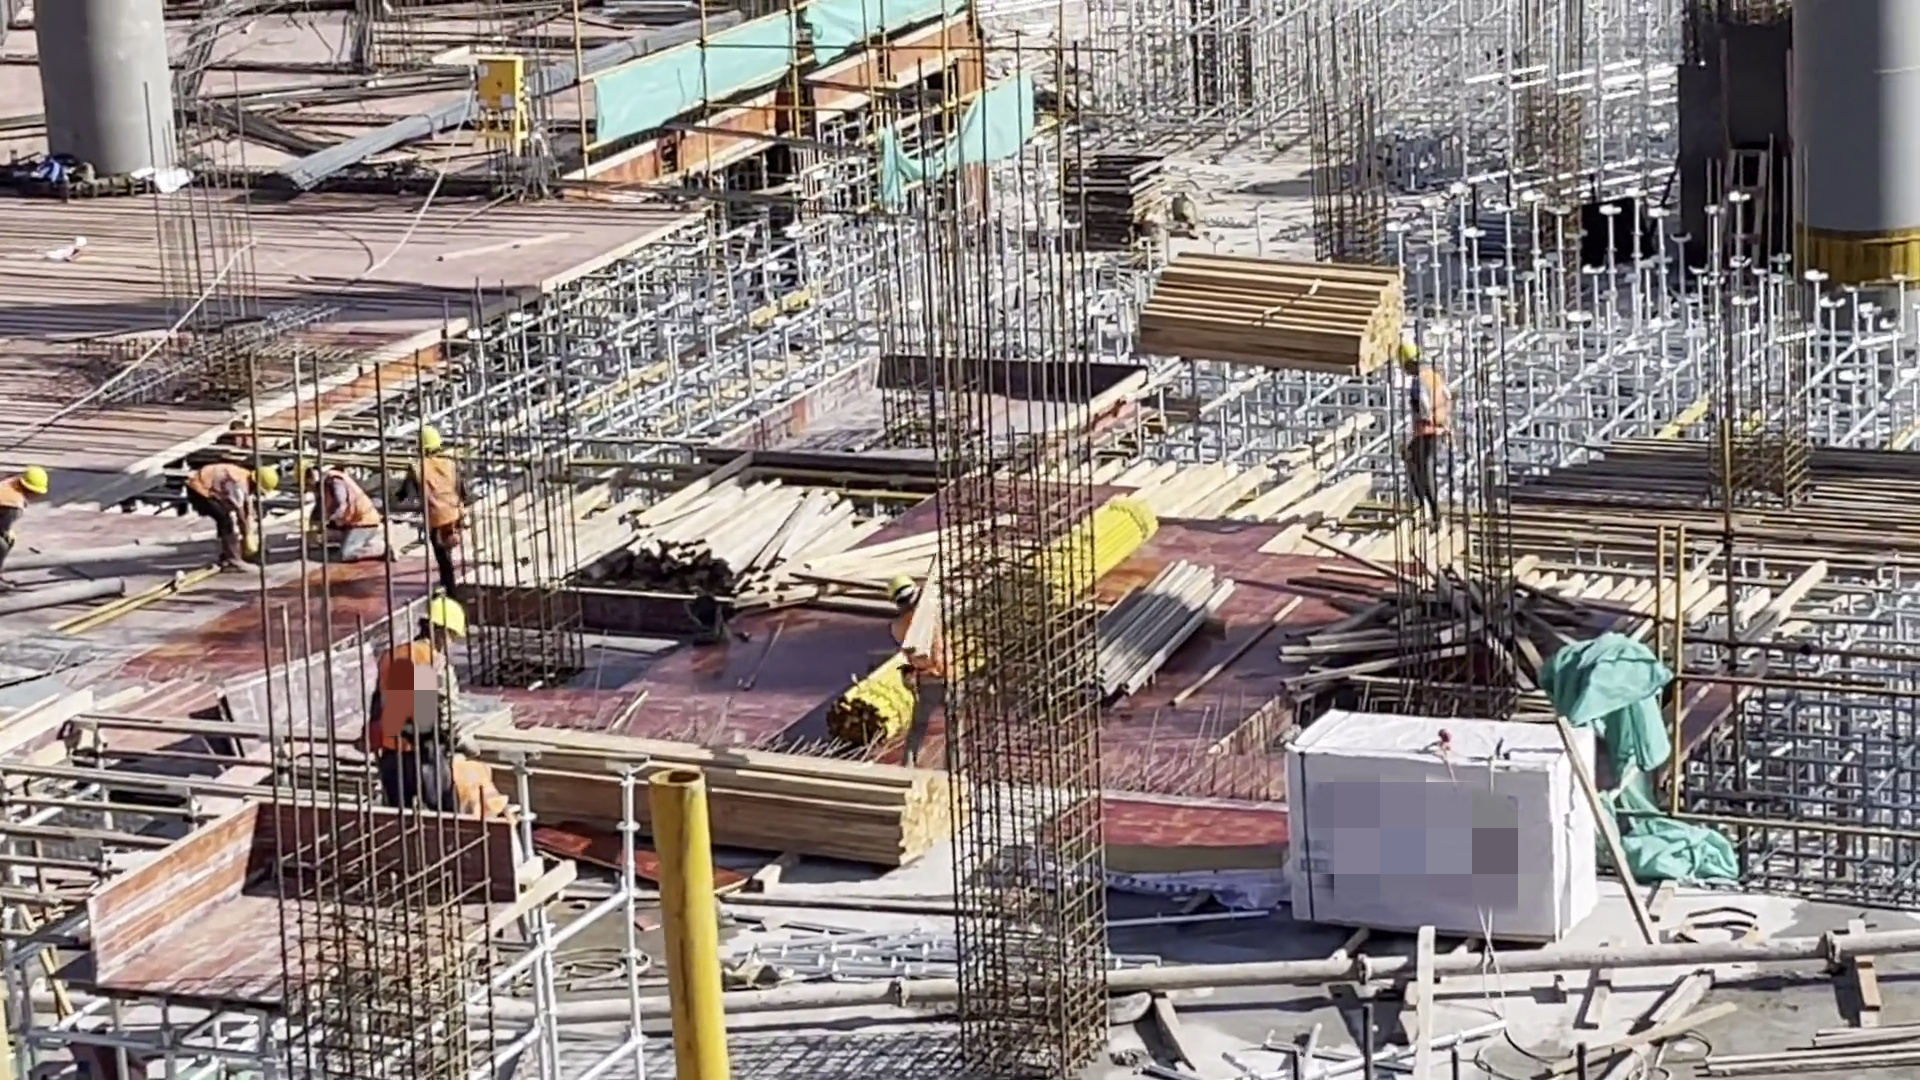ebox: (472, 48, 532, 127)
helmet: (11, 459, 60, 504), (415, 594, 467, 626), (409, 421, 452, 453), (1397, 330, 1425, 366), (251, 458, 275, 497), (294, 453, 319, 478)
person: (372, 589, 505, 819), (1380, 331, 1455, 533), (407, 429, 482, 578), (294, 461, 389, 571), (183, 443, 270, 553), (1, 447, 39, 575)
rebar: (1463, 431, 1920, 563)
vest: (376, 640, 464, 744), (413, 463, 469, 539), (316, 477, 391, 533), (1402, 375, 1456, 444), (183, 463, 259, 502)
wood: (570, 480, 885, 602), (1143, 250, 1373, 369)
